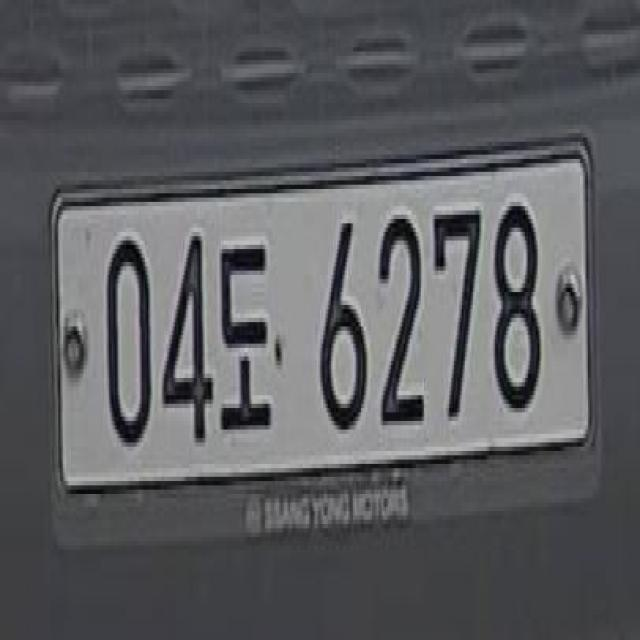illegal_plate: (51, 147, 604, 541)
